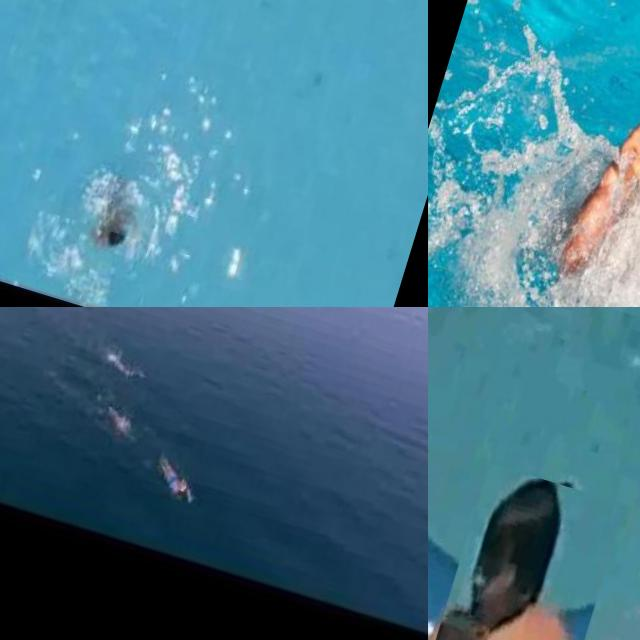drowning: (456, 0, 640, 307)
swimming: (428, 462, 624, 640), (87, 194, 142, 250), (149, 452, 205, 506), (98, 340, 152, 390), (96, 398, 138, 440)
